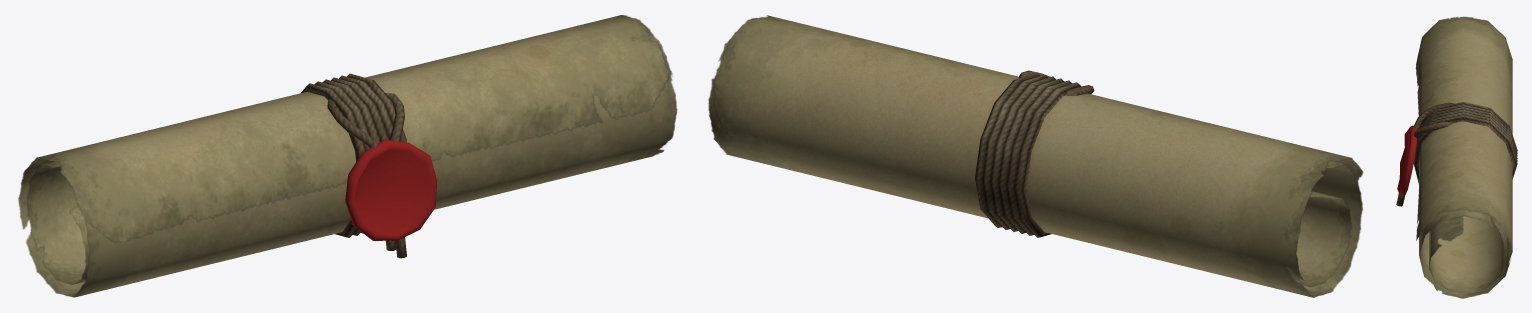
The picture shows the model from 3 angles, left to right: view 1: azimuth 30°, elevation 25°; view 2: azimuth 150°, elevation 25°; view 3: azimuth 270°, elevation 25°; orthographic projection. The views are drawn at different scales.
Visible parts, largest first — view 1: Paper; view 2: Paper; view 3: Paper.
Part boxes in pixels (x1,y1,x2,y2): Paper: (18,15,677,297); Paper: (708,15,1363,297); Paper: (1396,16,1517,298).
Size of the model in its own units: 2 by 0.4574 by 0.5153.
Materials: 1 (1 with a texture image).
